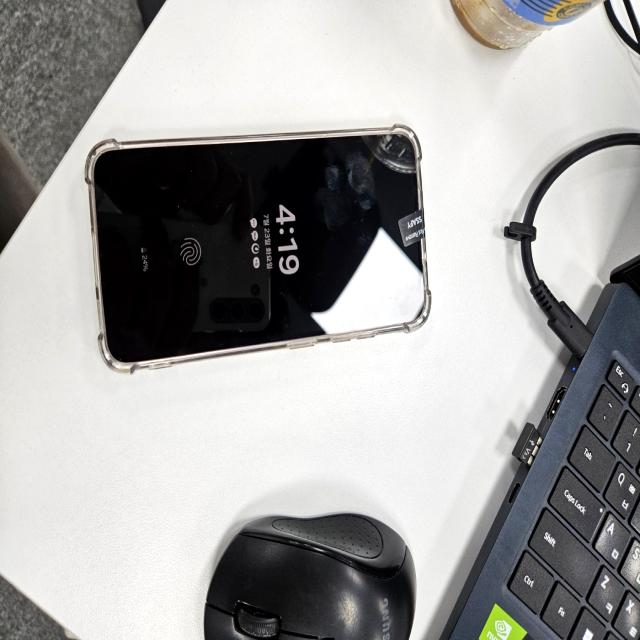phone: (84, 122, 433, 376)
sticker: (397, 209, 426, 248)
